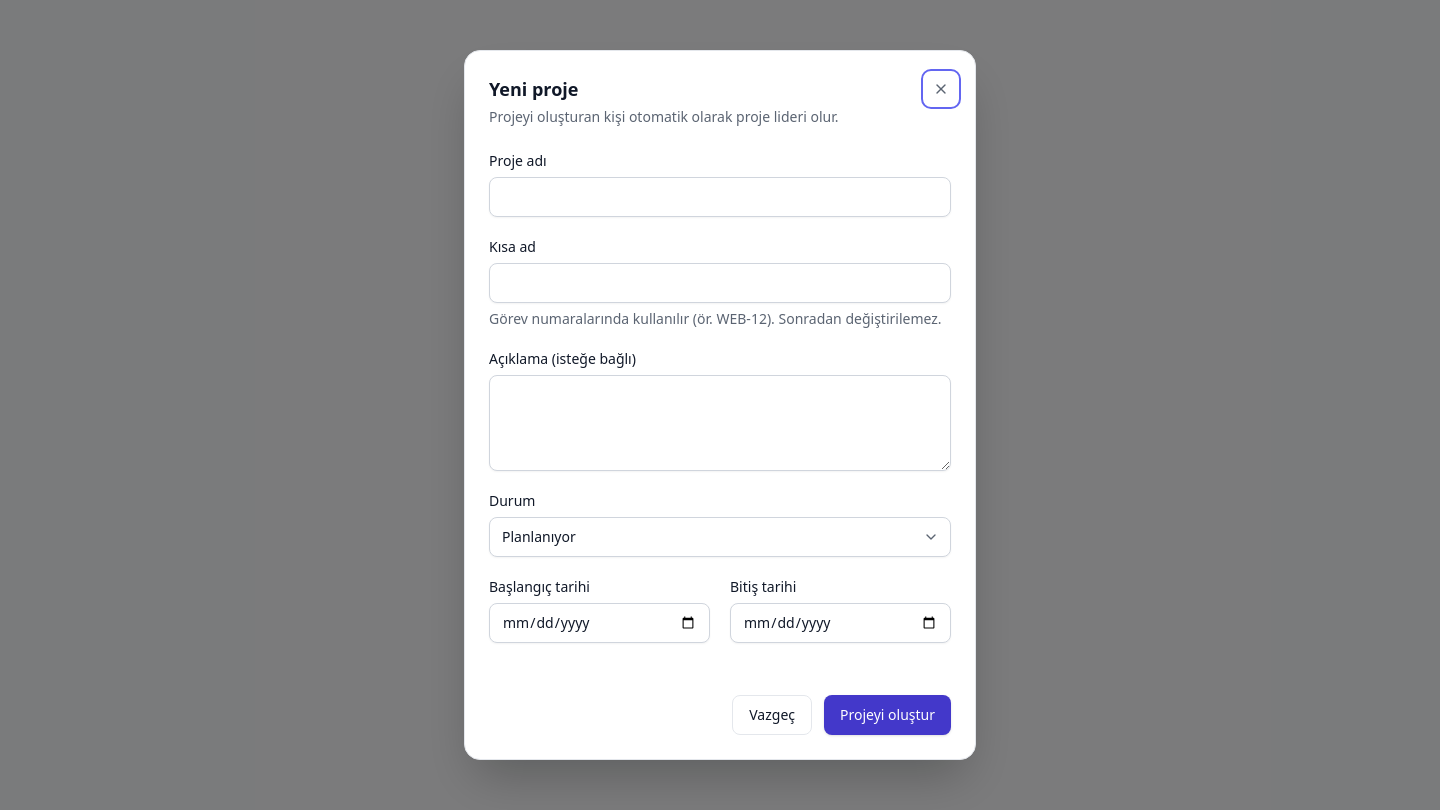
Scenario: ProjectFormDialog › rejects an end date before the start date
Type "Web sitesi" into the field labelled "Proje adı" at (720, 197), box x1=489 y1=177 x2=951 y2=217
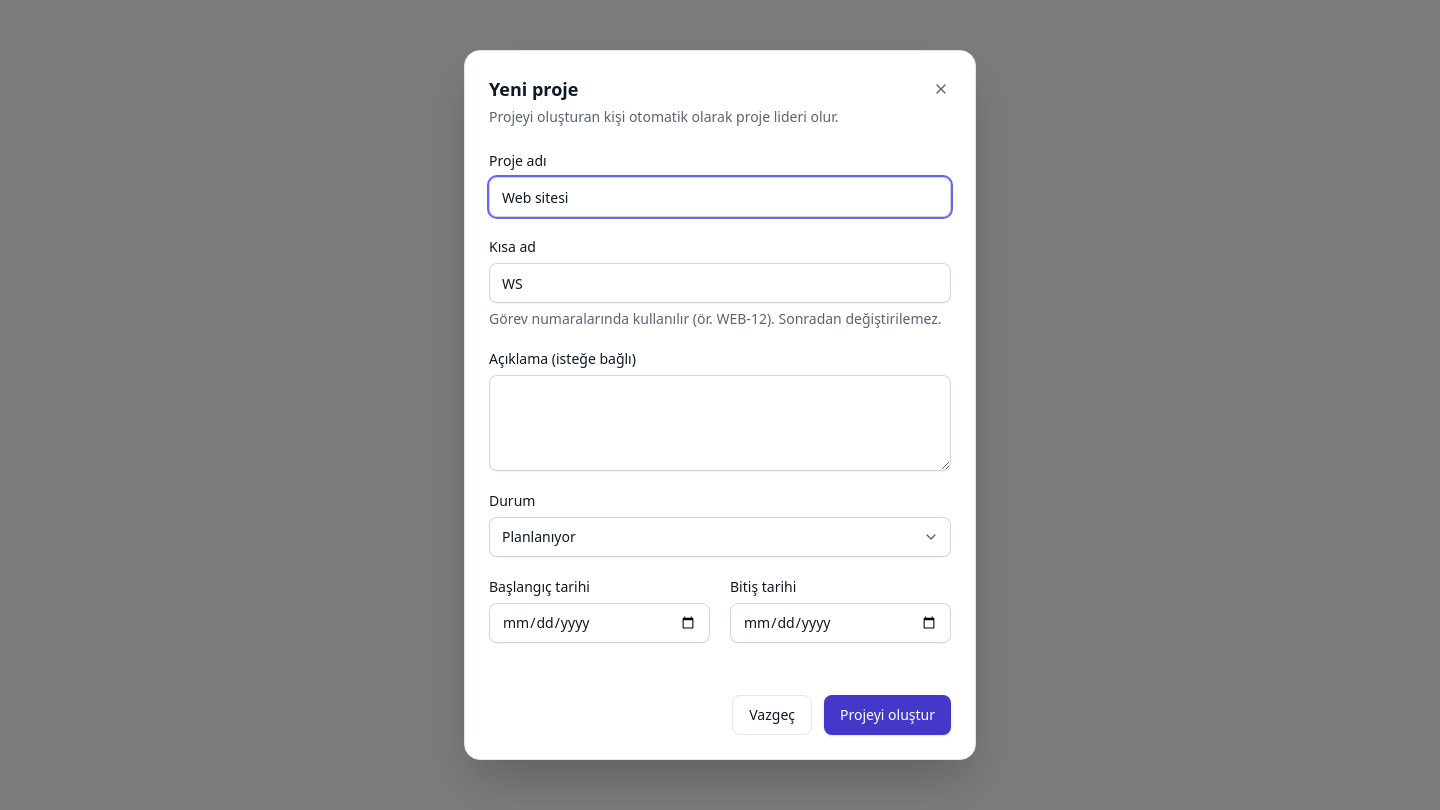
Type "2026-11-01" into the date field labelled "Başlangıç tarihi" at (600, 623), box x1=489 y1=603 x2=710 y2=643
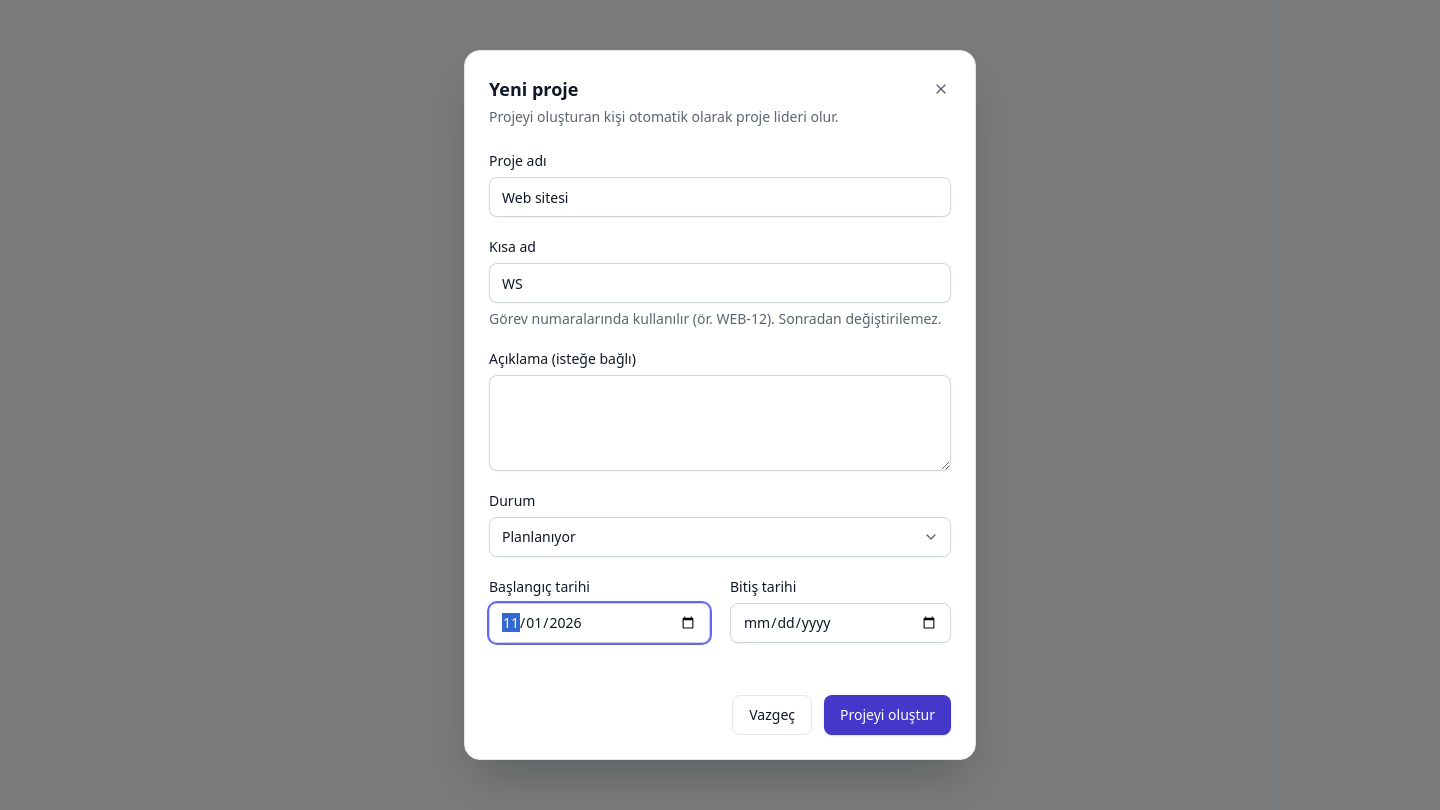
Type "2026-10-01" into the date field labelled "Bitiş tarihi" at (840, 623), box x1=730 y1=603 x2=951 y2=643
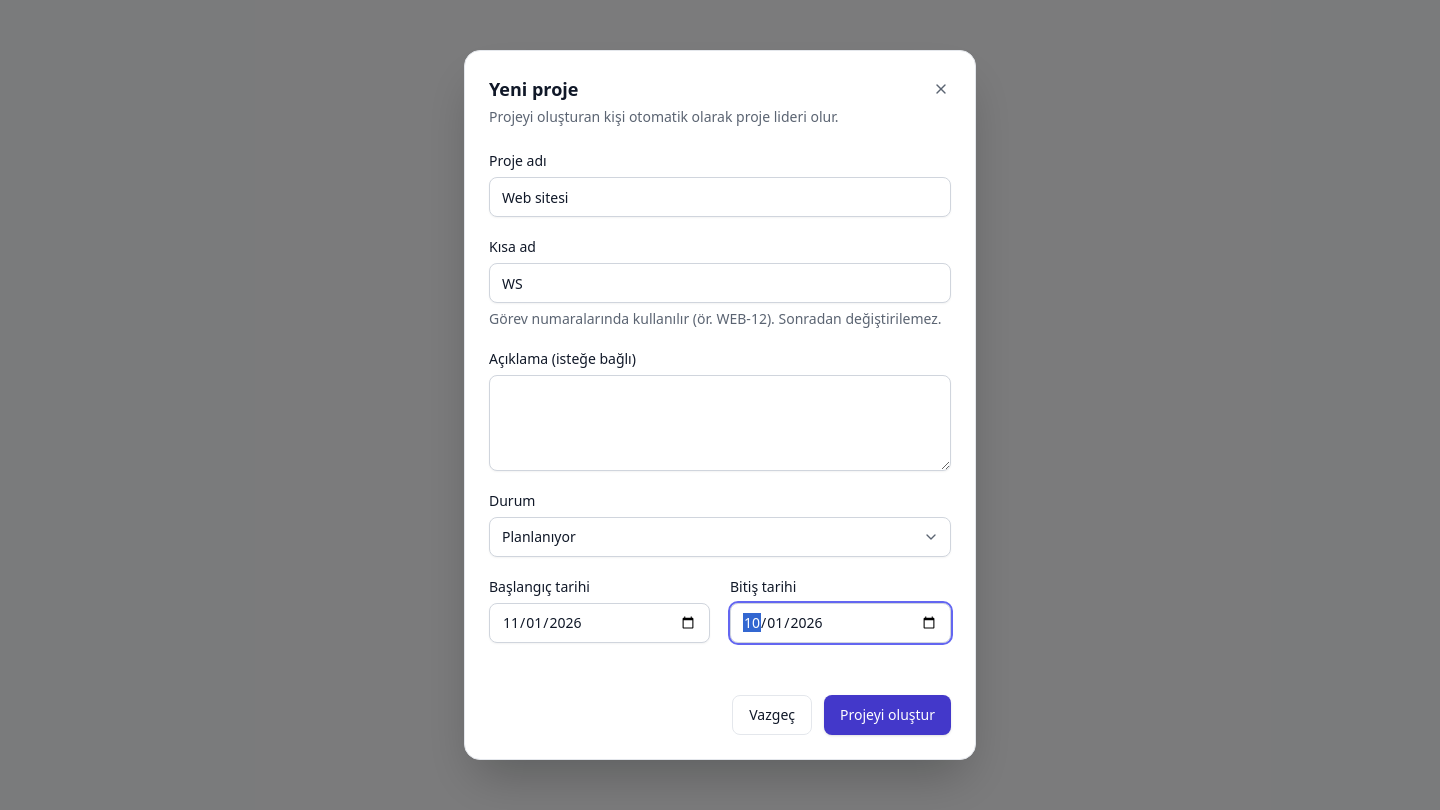
Click the button "Projeyi oluştur" at (888, 715), box x1=824 y1=695 x2=951 y2=735
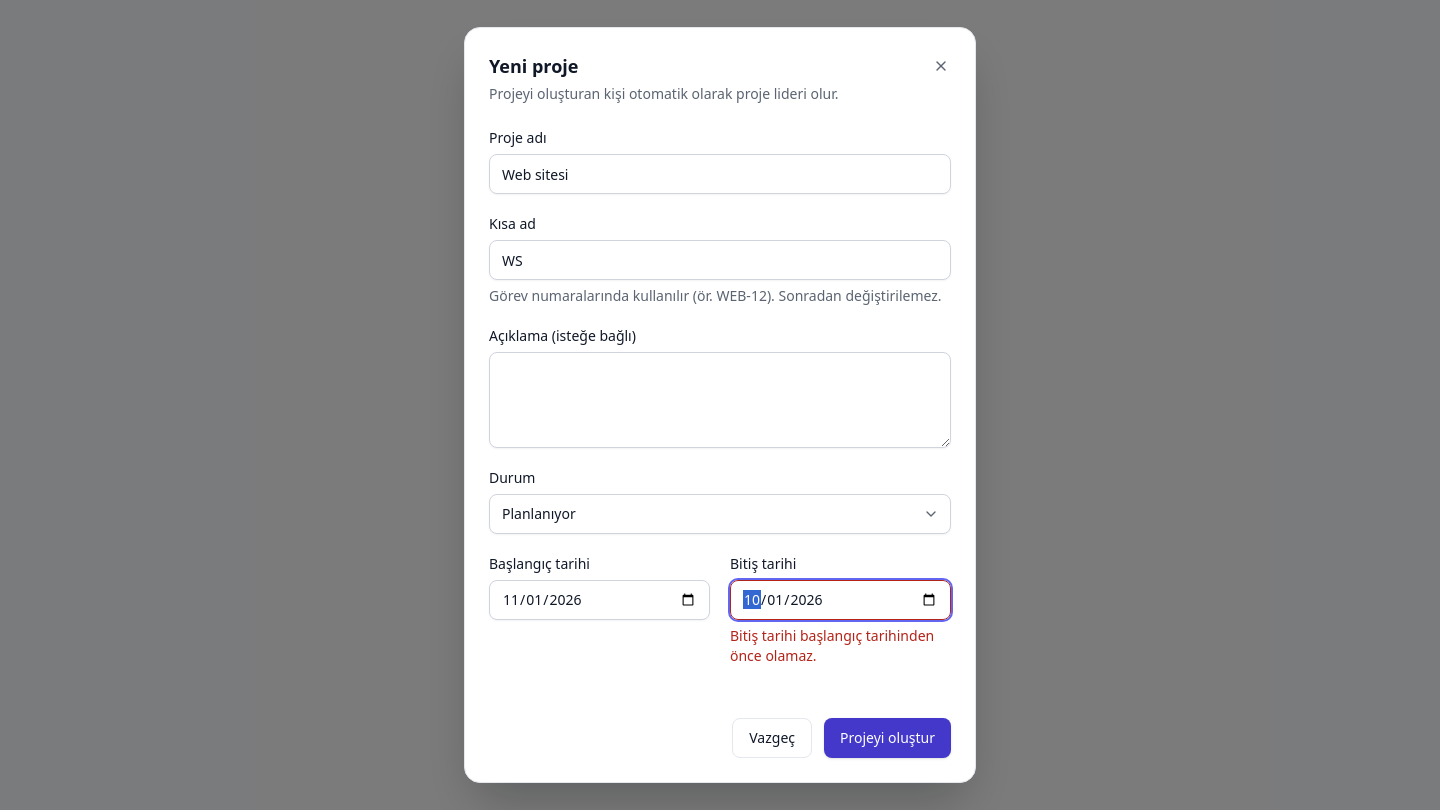
Now the text "Bitiş tarihi başlangıç tarihinden önce olamaz." is shown, box x1=730 y1=626 x2=951 y2=666
